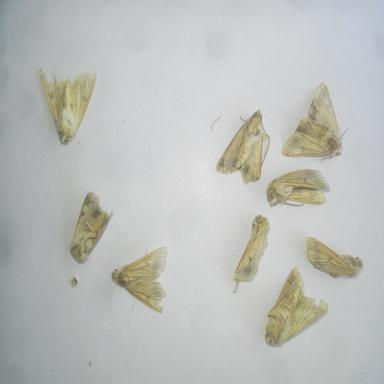abw: (278, 76, 350, 162), (262, 264, 331, 352), (36, 63, 100, 149), (211, 108, 274, 186), (109, 242, 170, 318), (68, 186, 116, 268), (230, 210, 272, 298), (266, 162, 333, 212), (303, 229, 366, 282)
